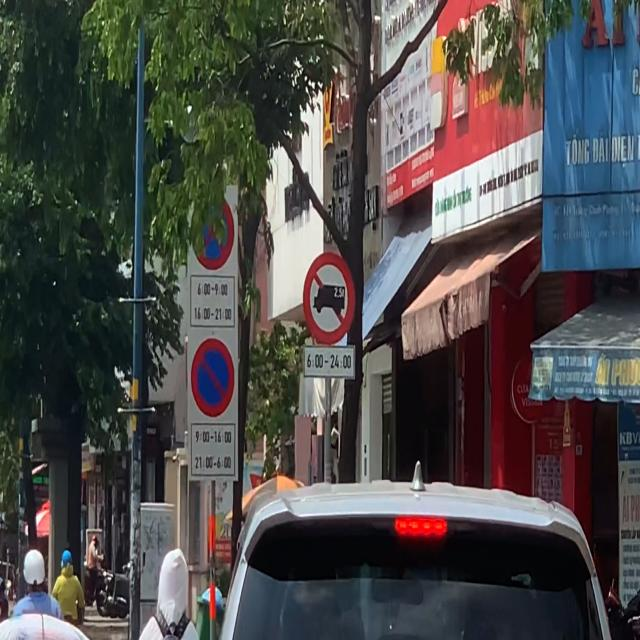Cam con lai: (300, 245, 355, 342)
Cam do: (188, 338, 236, 416)
